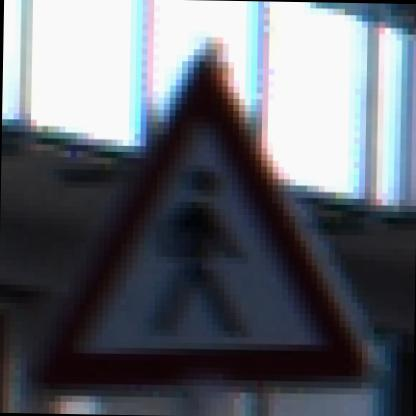crosswalk: (40, 44, 354, 394)
